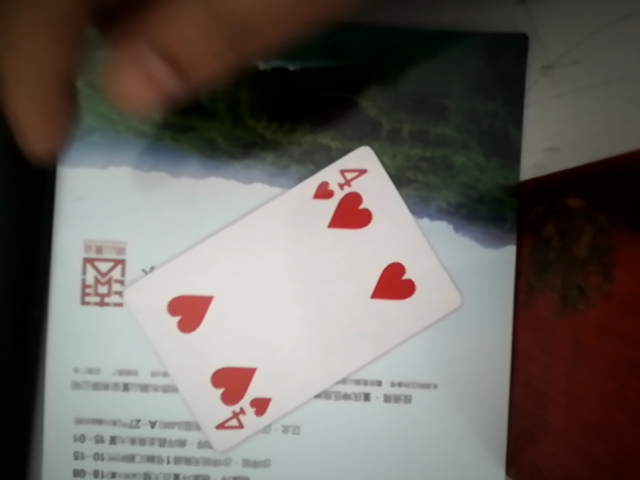hx 4: (74, 145, 465, 438)
